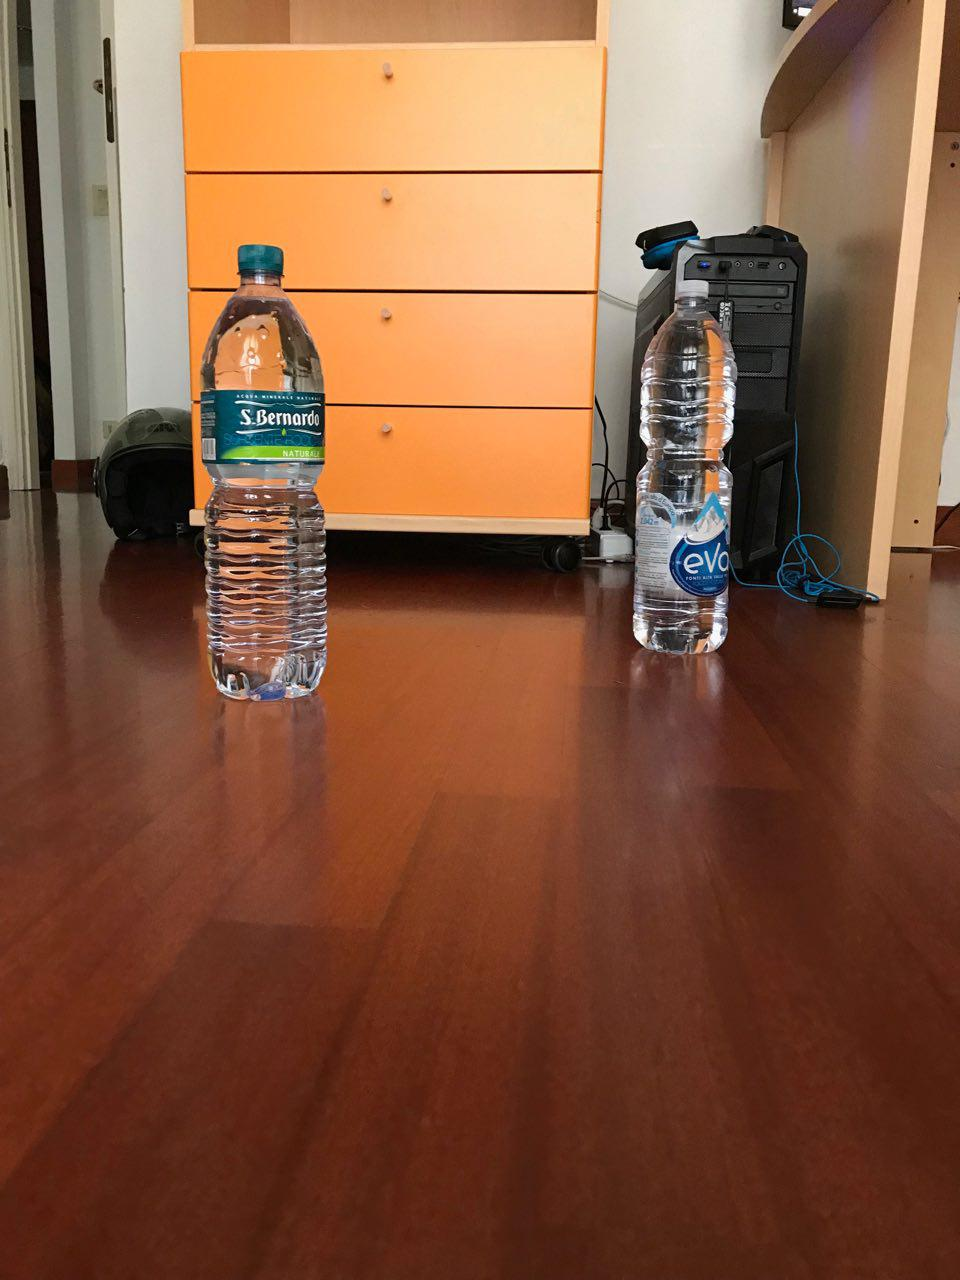san_bernardo: (199, 243, 327, 702)
